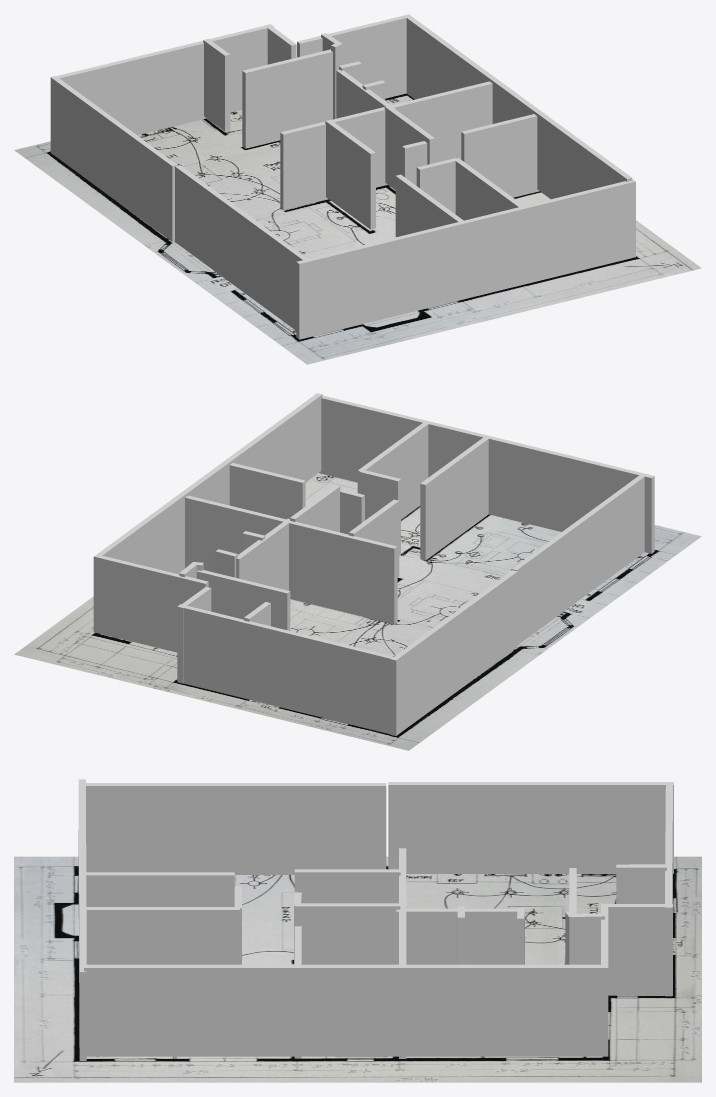
Rendered from rooms-level-architools-test-1.glb.
The picture shows the model from 3 angles, top to bottom: view 1: azimuth 30°, elevation 25°; view 2: azimuth 150°, elevation 25°; view 3: azimuth 270°, elevation 25°; orthographic projection. The views are drawn at different scales.
Visible parts, largest first — view 1: room-plan, Wall, Wall.001, Wall.003, Wall.005, Wall.004, Wall.006, Wall.015, Wall.009, Wall.007, Wall.010, Wall.011 (+7 smaller); view 2: room-plan, Wall, Wall.003, Wall.001, Wall.006, Wall.005, Wall.004, Wall.010, Wall.009, Wall.011, Wall.015, Wall.012 (+5 smaller); view 3: room-plan, Wall.001, Wall.005, Wall.004, Wall.011, Wall.008, Wall.012, Wall.002, Wall.010, Wall.007, Wall, Wall.014 (+3 smaller).
Boxes of the visible parts, x1,y1,x2,y2 form: room-plan: (14, 93, 701, 364); Wall: (296, 179, 635, 339); Wall.001: (297, 14, 632, 199); Wall.003: (51, 24, 273, 154); Wall.005: (175, 165, 307, 330); Wall.004: (50, 76, 177, 241); Wall.006: (280, 81, 492, 210); Wall.015: (242, 49, 332, 148); Wall.009: (461, 114, 539, 197); Wall.007: (325, 119, 375, 229); Wall.010: (395, 174, 463, 237); Wall.011: (454, 158, 525, 220); room-plan: (14, 473, 701, 750); Wall: (319, 395, 654, 553); Wall.003: (177, 604, 399, 735); Wall.001: (93, 393, 322, 652); Wall.006: (185, 495, 397, 624); Wall.005: (511, 475, 644, 644); Wall.004: (390, 570, 517, 735); Wall.010: (420, 436, 488, 560); Wall.009: (229, 463, 305, 519); Wall.011: (357, 421, 429, 519); Wall.015: (196, 570, 290, 630); Wall.012: (236, 518, 289, 590); room-plan: (14, 856, 701, 1082); Wall.001: (84, 903, 608, 1056); Wall.005: (85, 783, 386, 874); Wall.004: (388, 782, 673, 873); Wall.011: (82, 907, 239, 964); Wall.008: (294, 903, 400, 964); Wall.012: (396, 908, 517, 964); Wall.002: (608, 904, 672, 995); Wall.010: (82, 872, 234, 906); Wall.007: (294, 869, 400, 903); Wall: (78, 779, 86, 1060); Wall.014: (616, 864, 666, 903).
Size of the model in its own units: 14.74 by 2.9 by 18.96.
Materials: 4 (1 with a texture image).
